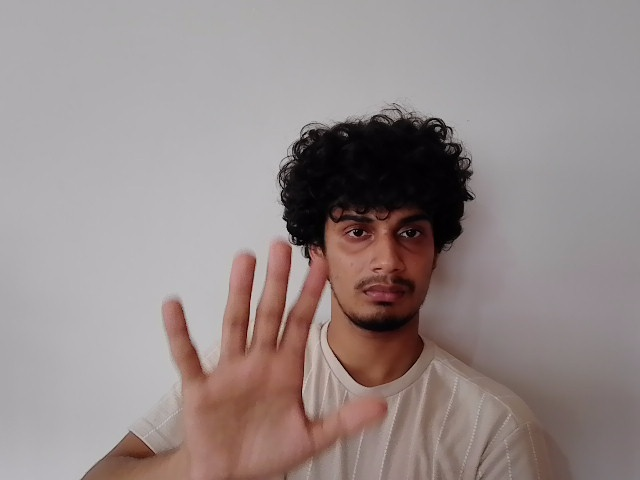goodbye: (160, 243, 391, 469)
